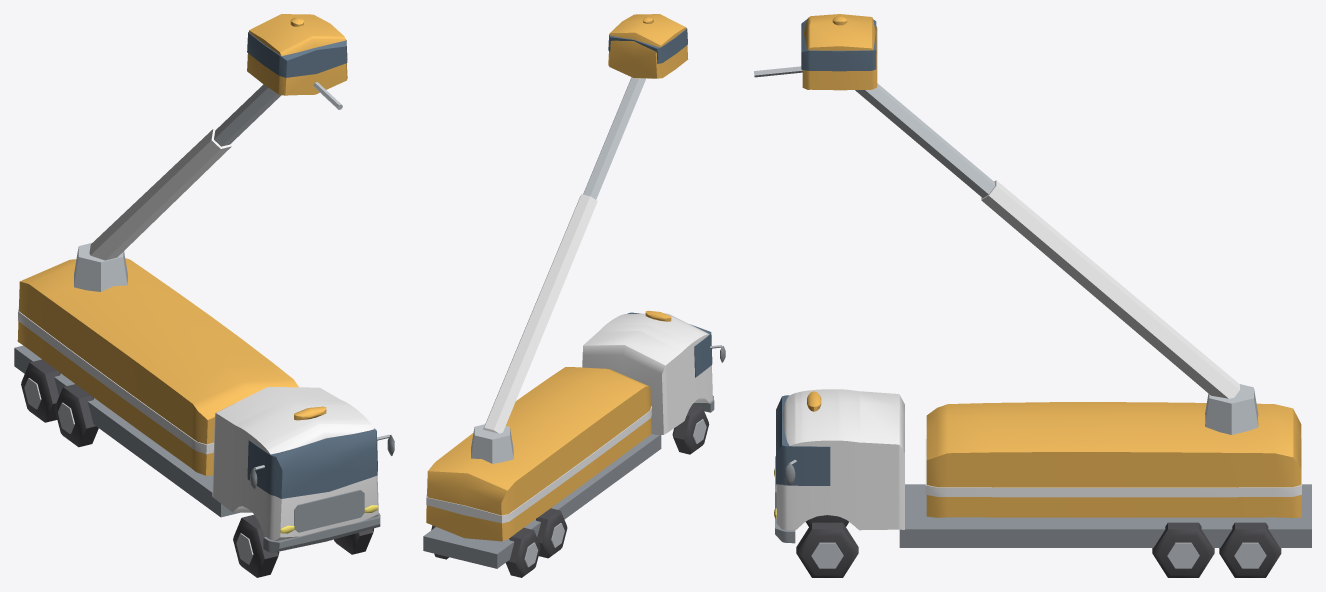
Rendered from engin_degivrage-RkN1OFzG.glb.
3 views of the same model, side by side, from view 1: azimuth 30°, elevation 25°; view 2: azimuth 150°, elevation 25°; view 3: azimuth 270°, elevation 25° (orthographic). The views are drawn at different scales.
Visible parts, largest first — view 1: carrosserie, fleche, roues; view 2: carrosserie, fleche, roues; view 3: carrosserie, fleche, roues.
Boxes of the visible parts, x1,y1,x2,y2 form: carrosserie: (14,242,394,552); fleche: (89,14,347,260); roues: (21,359,373,577); carrosserie: (423,310,725,568); fleche: (483,14,688,433); roues: (431,404,709,577); carrosserie: (774,384,1311,547); fleche: (754,14,1239,398); roues: (796,515,1281,577).
Bounding box in the file's own units: 3.06 × 11.02 × 10.42.
